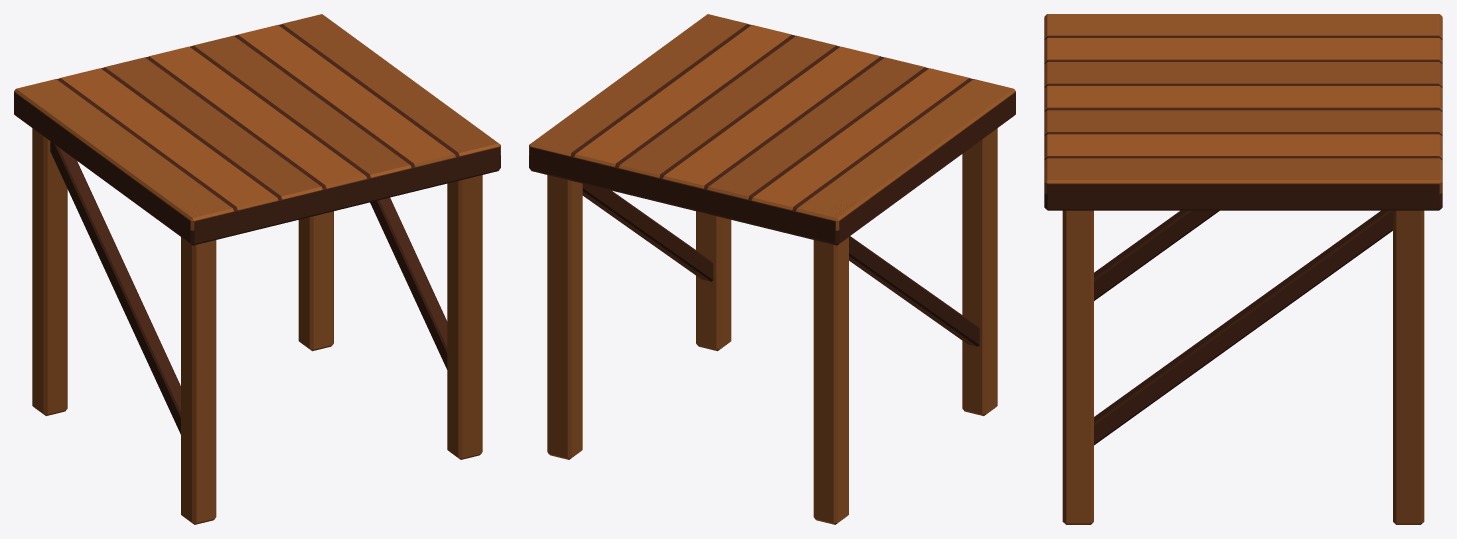
Rendered from EH_StairLanding.fbx.
3 views of the same model, side by side, from view 1: azimuth 30°, elevation 25°; view 2: azimuth 150°, elevation 25°; view 3: azimuth 270°, elevation 25° (orthographic). The views are drawn at different scales.
Parts seen in each view (by area): view 1: EH_StairLanding; view 2: EH_StairLanding; view 3: EH_StairLanding.
Part boxes in pixels (left/top/right/bottom): EH_StairLanding: left=14, top=14, right=500, bottom=524; EH_StairLanding: left=529, top=14, right=1015, bottom=524; EH_StairLanding: left=1044, top=14, right=1442, bottom=524.
Bounding box in the file's own units: 1.4 × 1.36 × 1.4.
